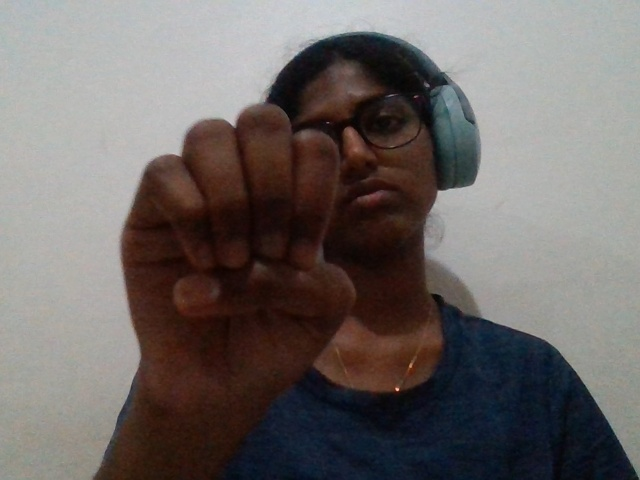E: (80, 93, 421, 455)
